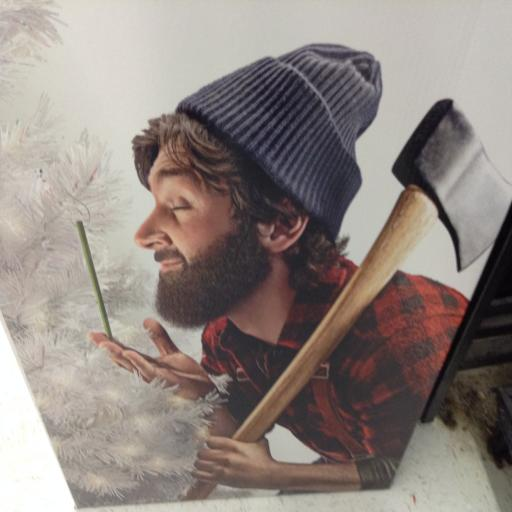Axe: (178, 96, 512, 498), (180, 98, 512, 500)
